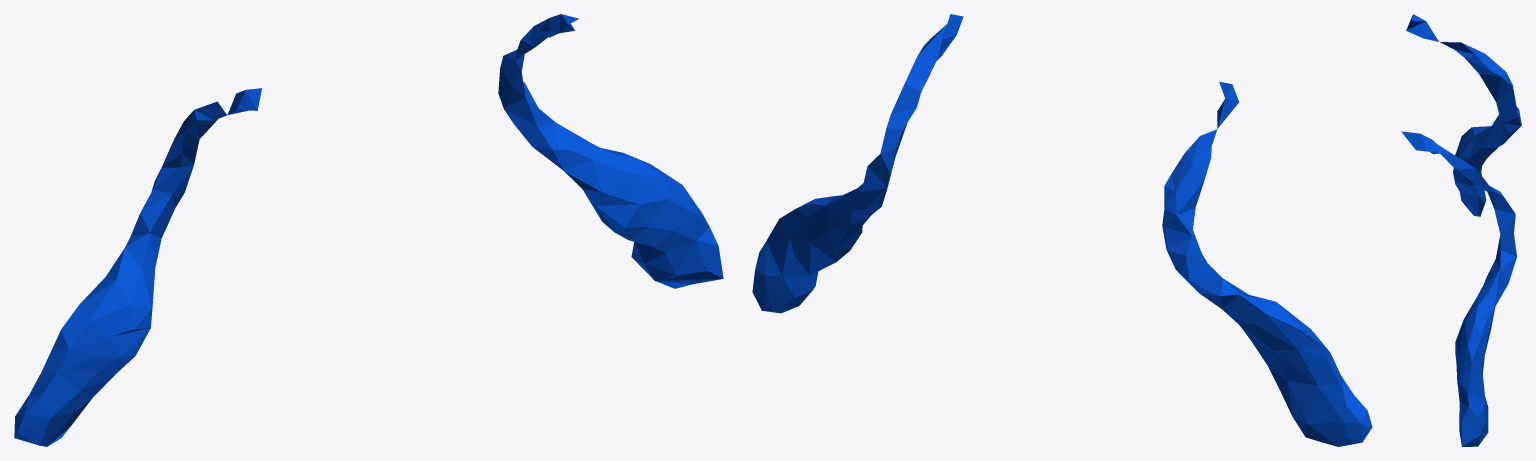
The model's file is 142-29a-c-area 29a-c of cortex-('0.0000', '0.3843', '1.0000').obj.
The picture shows the model from 3 angles, left to right: view 1: azimuth 30°, elevation 25°; view 2: azimuth 150°, elevation 25°; view 3: azimuth 270°, elevation 25°; orthographic projection. The views are drawn at different scales.
Size of the model in its own units: 110 by 51.91 by 22.24.
